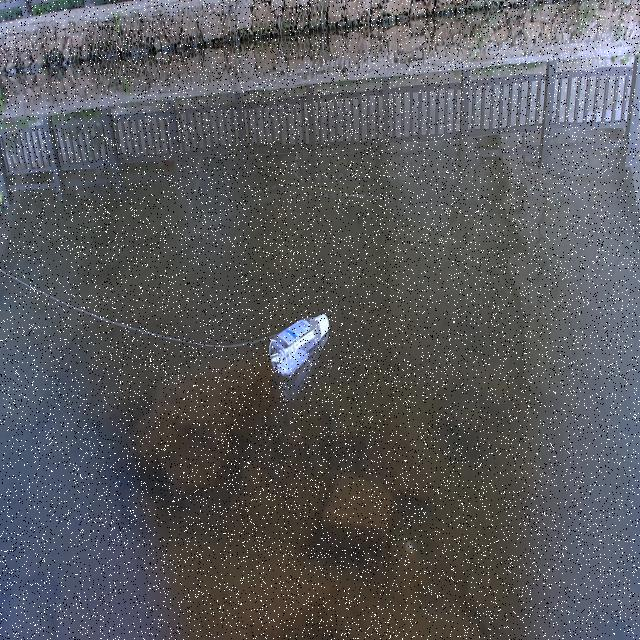Bottle: (268, 308, 331, 377)
